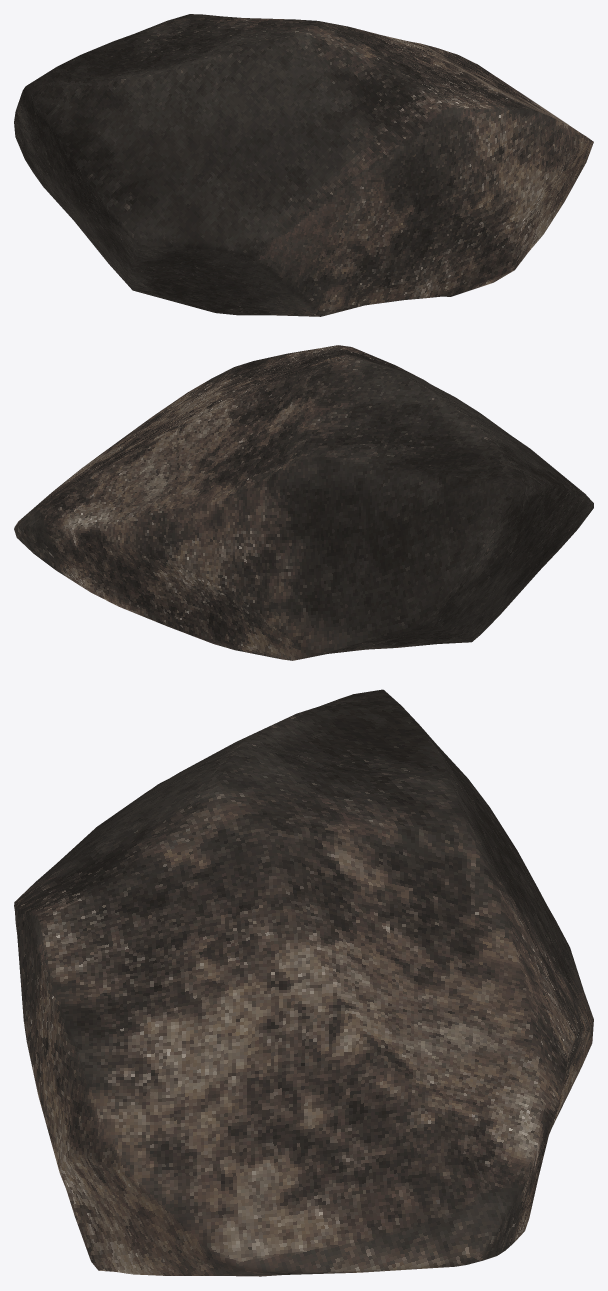
The model's file is SM_RP_Rock_8m_1.glb.
3 renders of one model, top to bottom at view 1: azimuth 30°, elevation 25°; view 2: azimuth 150°, elevation 25°; view 3: azimuth 270°, elevation 25°, orthographic. The views are drawn at different scales.
Parts seen in each view (by area): view 1: SM_RP_Rock_8m_1; view 2: SM_RP_Rock_8m_1; view 3: SM_RP_Rock_8m_1.
Boxes of the visible parts, x1,y1,x2,y2 form: SM_RP_Rock_8m_1: (14, 14, 593, 316); SM_RP_Rock_8m_1: (14, 345, 593, 660); SM_RP_Rock_8m_1: (14, 689, 593, 1276).
Size of the model in its own units: 14.22 by 6.97 by 9.43.
Materials: 1 (1 with a texture image).
